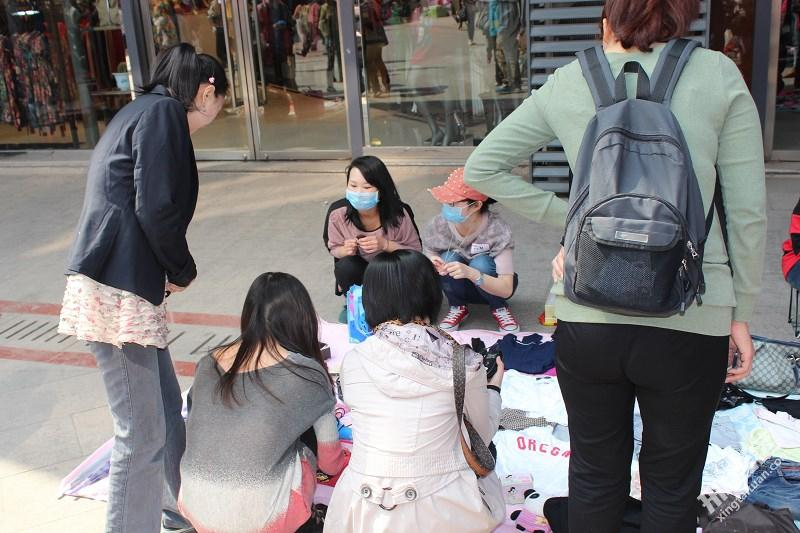OK: (347, 174, 384, 211), (441, 197, 472, 226)
